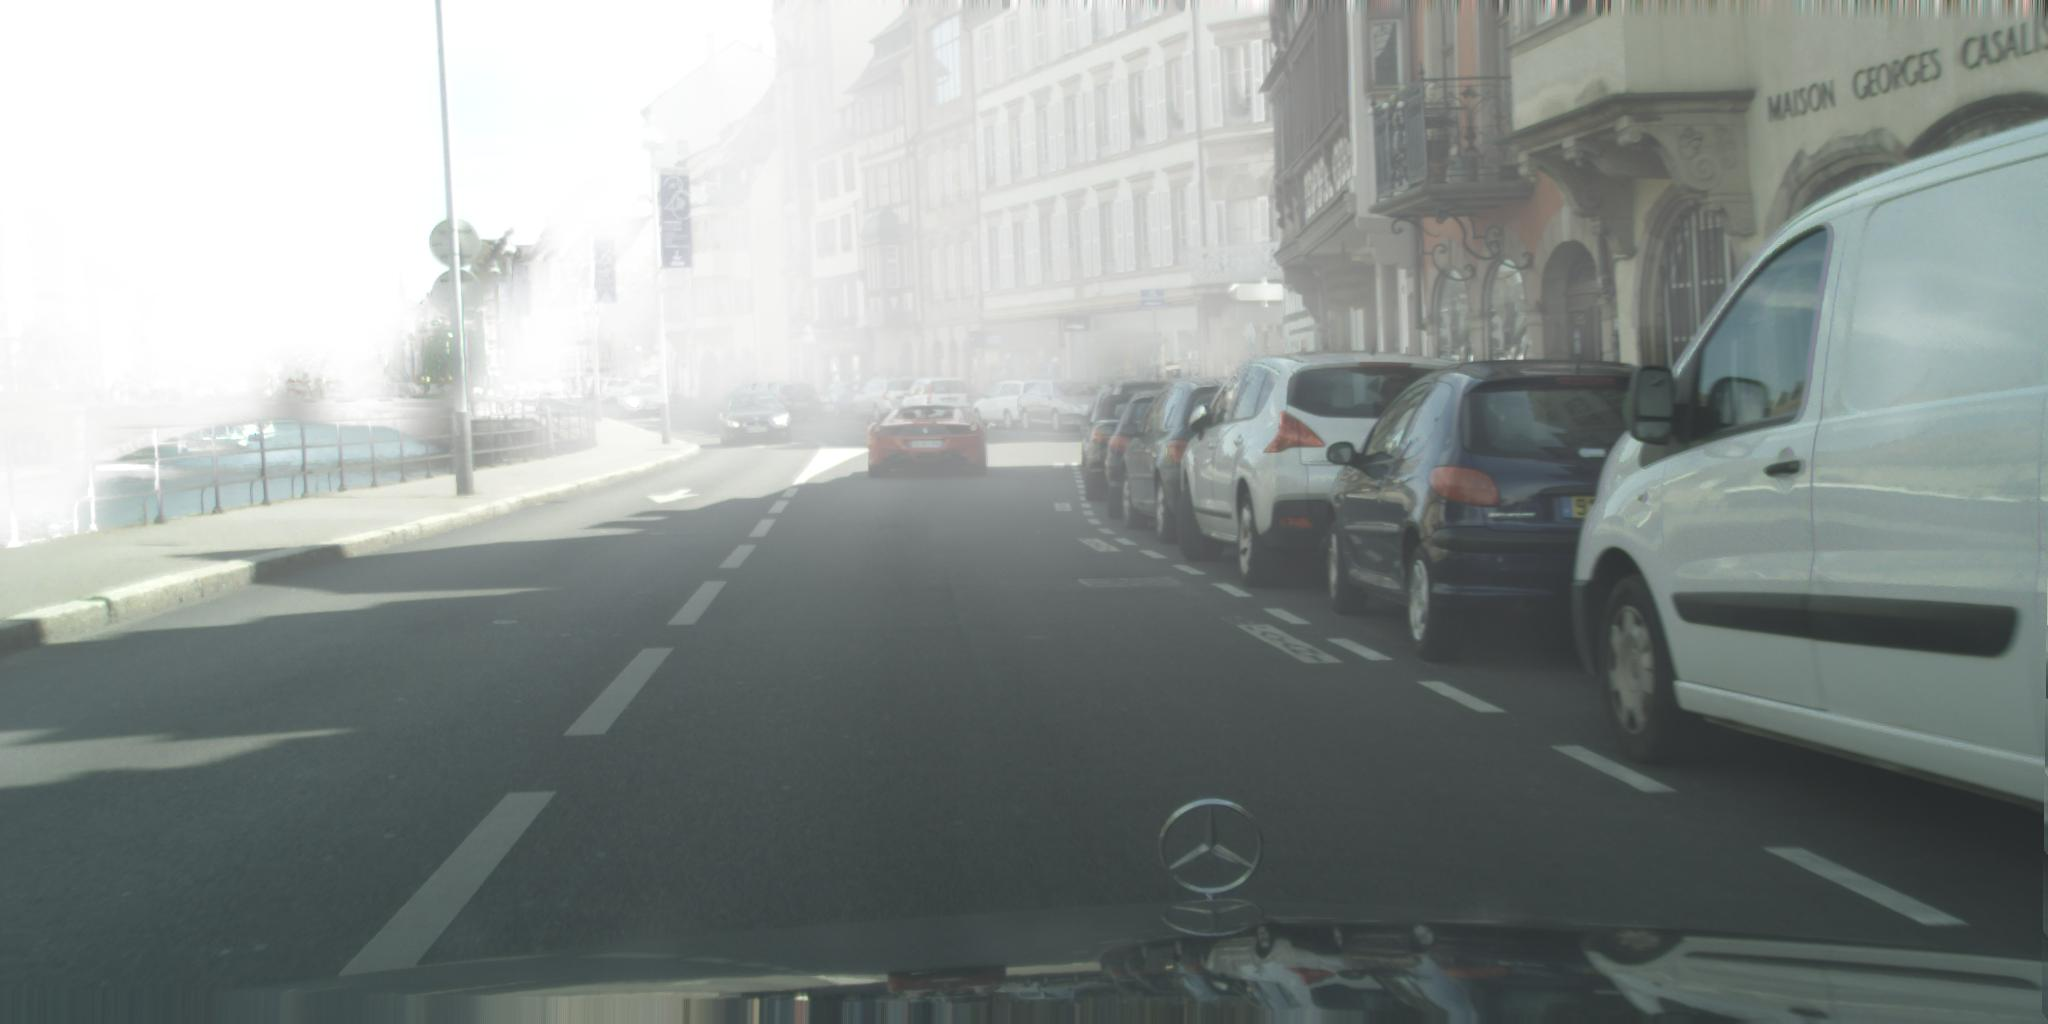car: (1573, 118, 2048, 811), (1324, 359, 1674, 661), (1178, 333, 1503, 588), (1121, 377, 1255, 546), (1098, 391, 1183, 520), (867, 405, 987, 479), (1076, 394, 1145, 502), (1079, 387, 1136, 475), (1017, 379, 1109, 434), (1106, 379, 1194, 430), (717, 391, 793, 448), (972, 381, 1046, 431), (852, 377, 920, 423), (900, 377, 972, 421), (808, 381, 874, 419), (769, 381, 823, 423), (618, 383, 667, 419), (748, 381, 794, 408), (598, 379, 632, 406), (737, 380, 767, 406), (532, 376, 563, 398), (584, 379, 611, 402)
